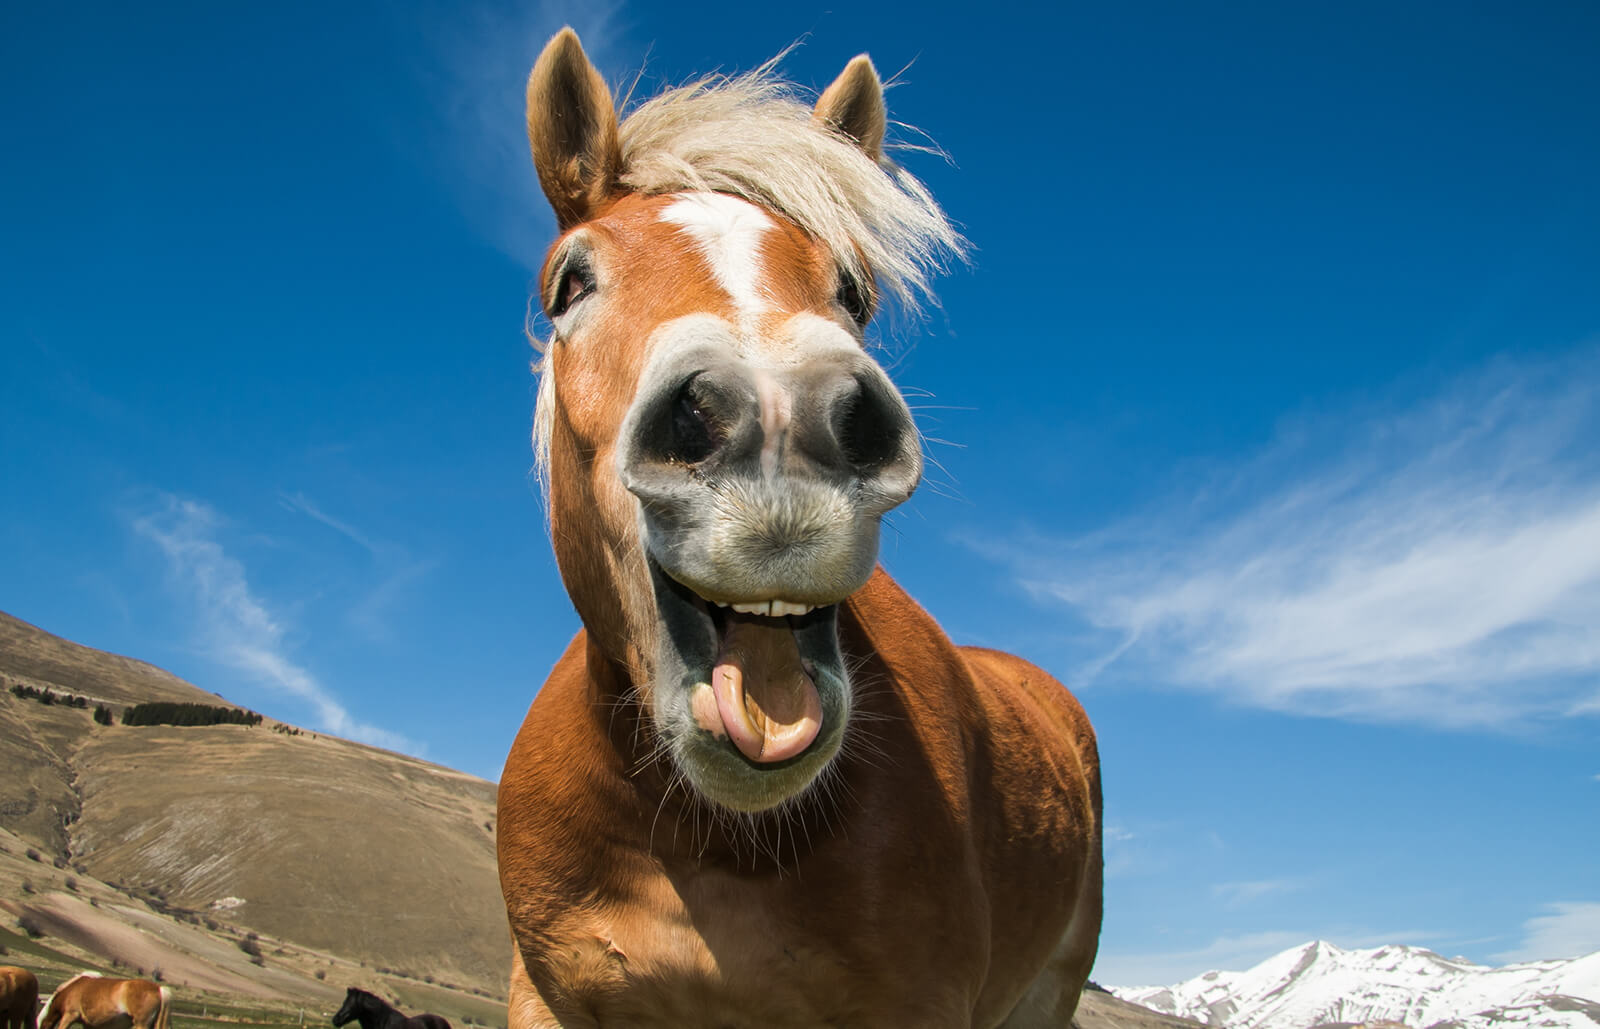Horse: (318, 38, 1216, 1001)
